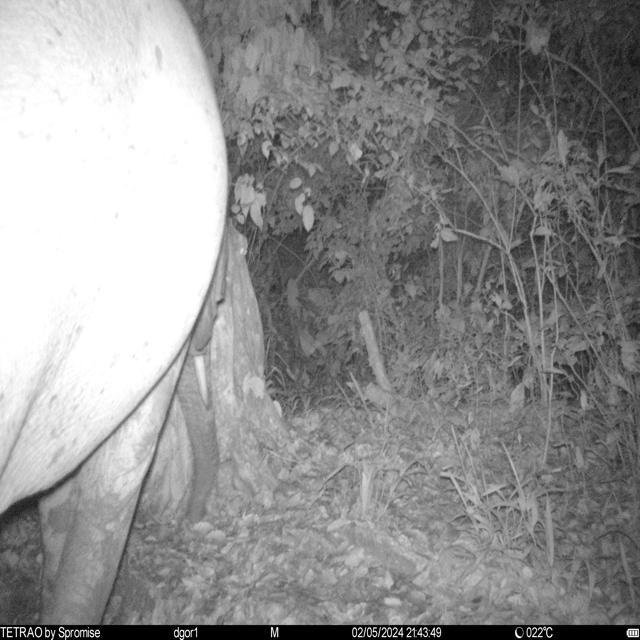elephant: (0, 0, 228, 624)
tusk: (193, 356, 211, 410)
